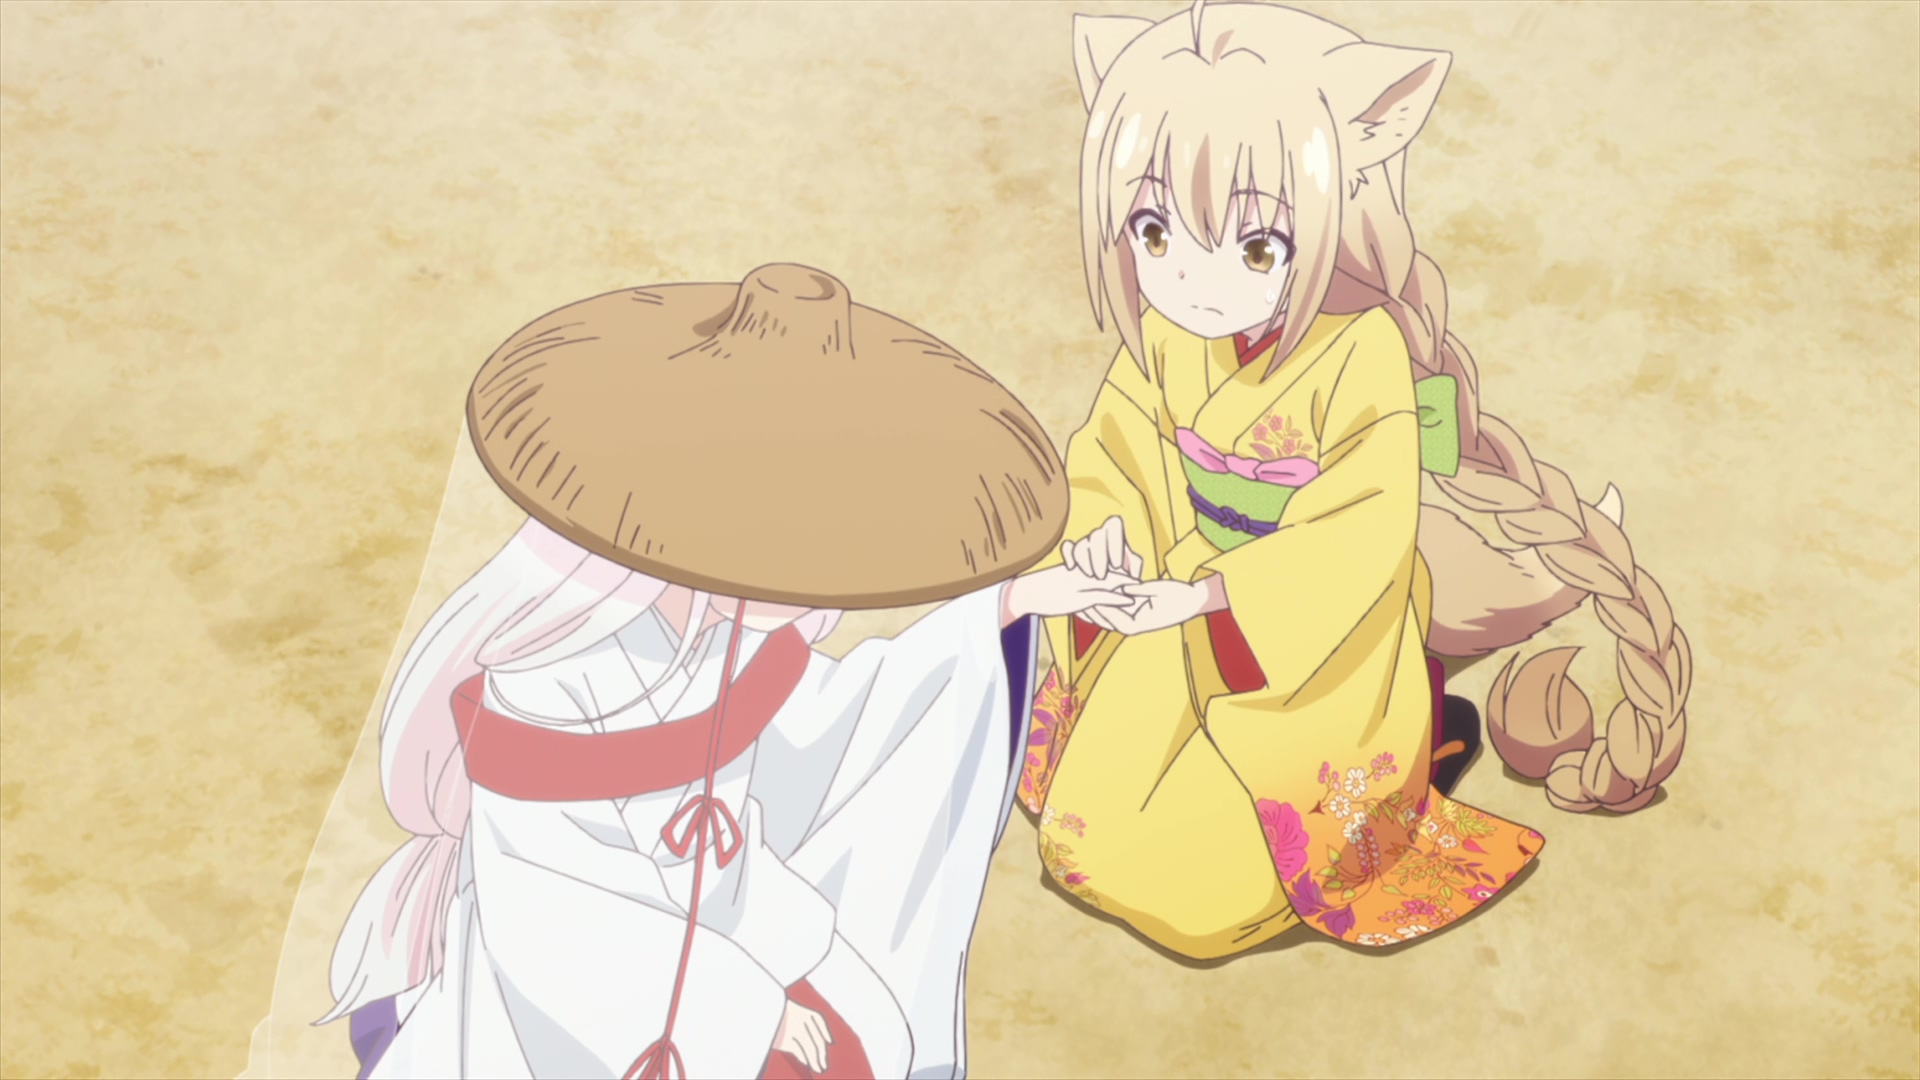其他: (247, 261, 1137, 1080)
柚: (1010, 1, 1693, 971)
